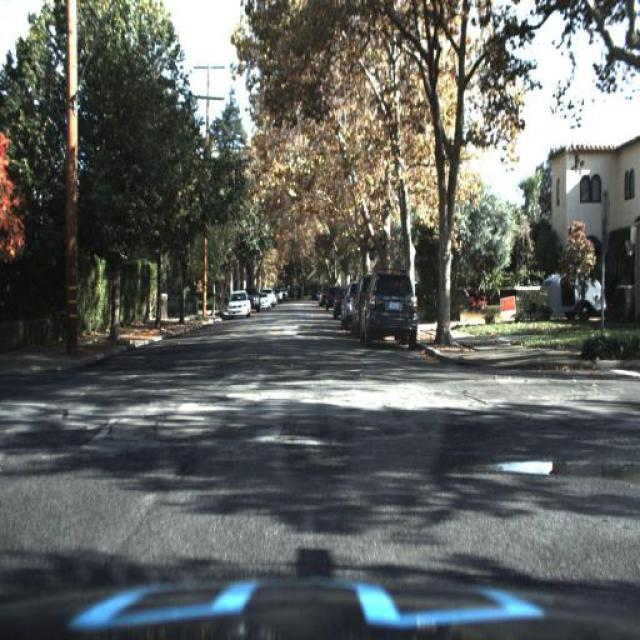car: (363, 265, 422, 350), (537, 264, 605, 320), (224, 289, 252, 319), (226, 289, 252, 319), (256, 292, 270, 312)
